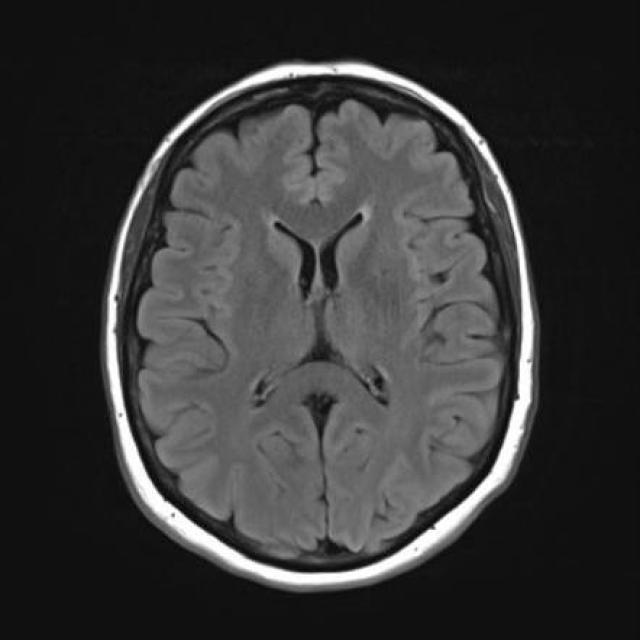No_Tumor: (103, 61, 537, 591)
